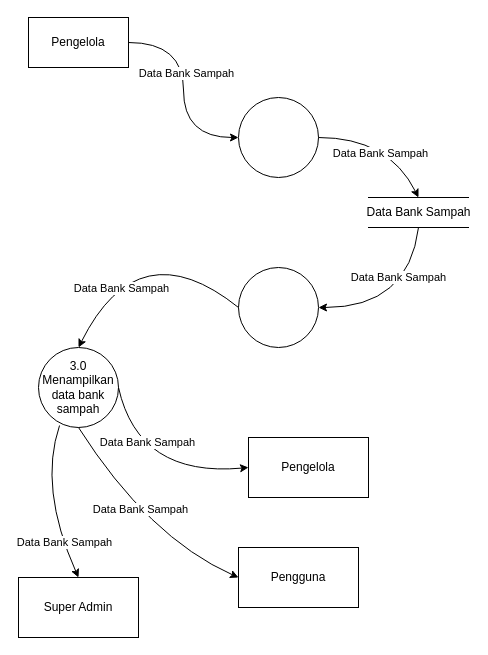
Some shapes in this 488 by 655 pixel diagram are drawn without their labels. The centre of each missing label's shape, as x and y in pixels:
"1.0 Input data bank sampah" belongs at point (278, 137).
"2.0 Update data bank sampah" belongs at point (278, 307).
